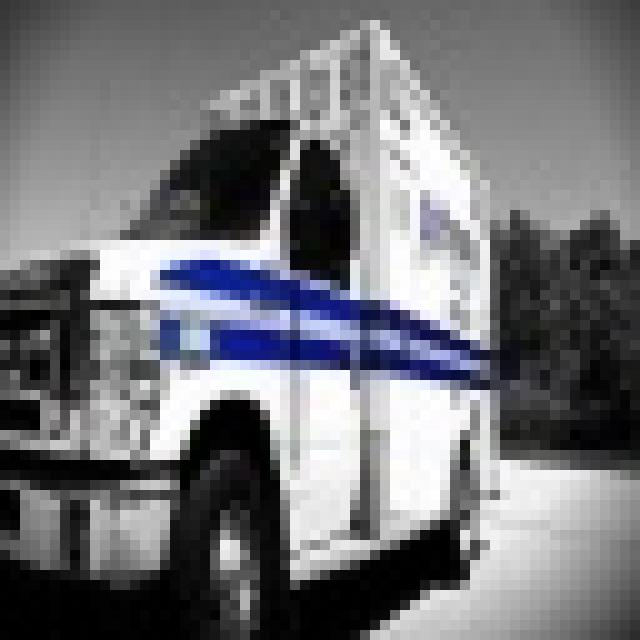Ambulance: (0, 10, 500, 630)
